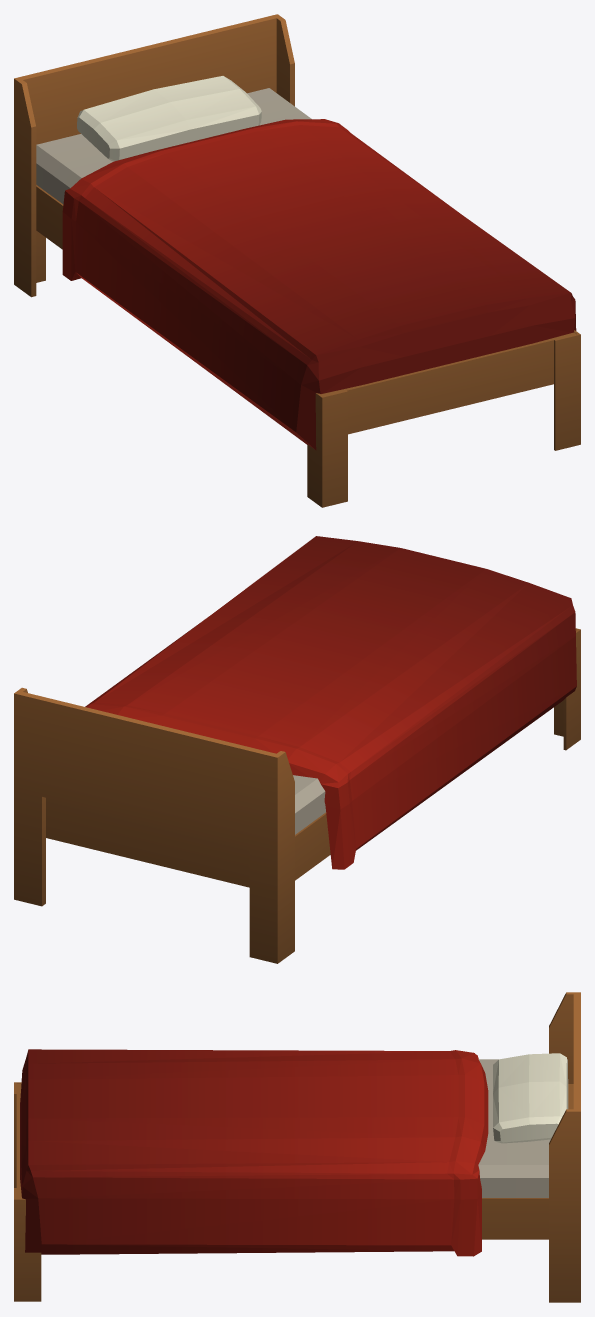
Rendered from Prop_Bed_01.obj.
3 views of the same model, one above another, from view 1: azimuth 30°, elevation 25°; view 2: azimuth 150°, elevation 25°; view 3: azimuth 270°, elevation 25° (orthographic). The views are drawn at different scales.
Visible parts, largest first — view 1: Prop_Bed_01; view 2: Prop_Bed_01; view 3: Prop_Bed_01.
Part boxes in pixels (box(x1,y1,x2,y2)): Prop_Bed_01: box(14, 14, 580, 507); Prop_Bed_01: box(14, 536, 580, 963); Prop_Bed_01: box(14, 992, 580, 1302).
Size of the model in its own units: 1.09 by 0.7592 by 2.04.
Materials: 1 (1 with a texture image).
